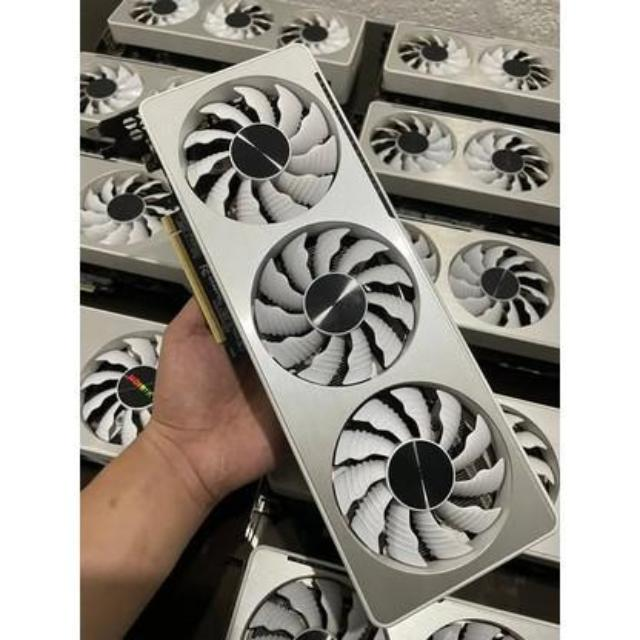GPU: (119, 41, 559, 636)
